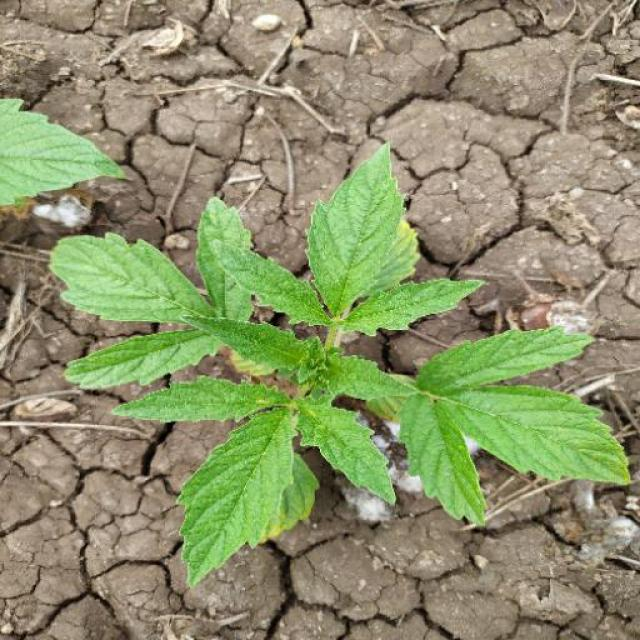crop: (46, 152, 640, 568)
